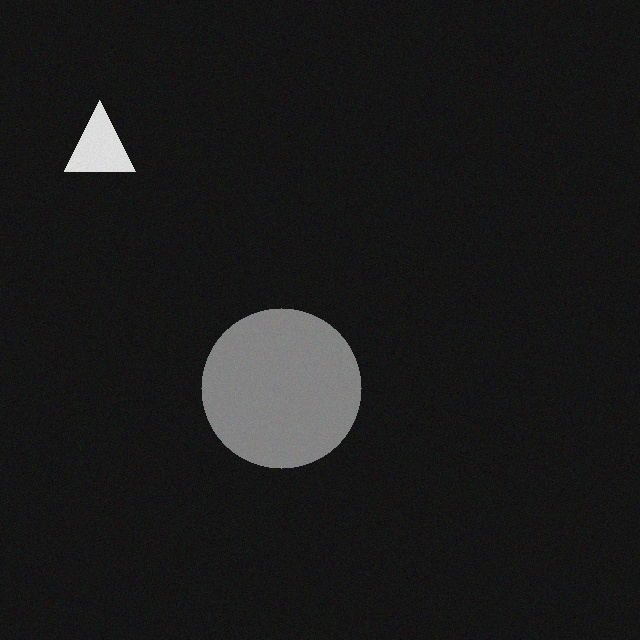circle: (207, 300, 367, 460)
triangle: (70, 92, 141, 163)
